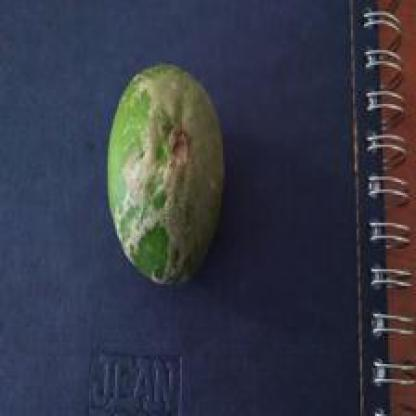orange_rotten: (83, 44, 284, 306)
